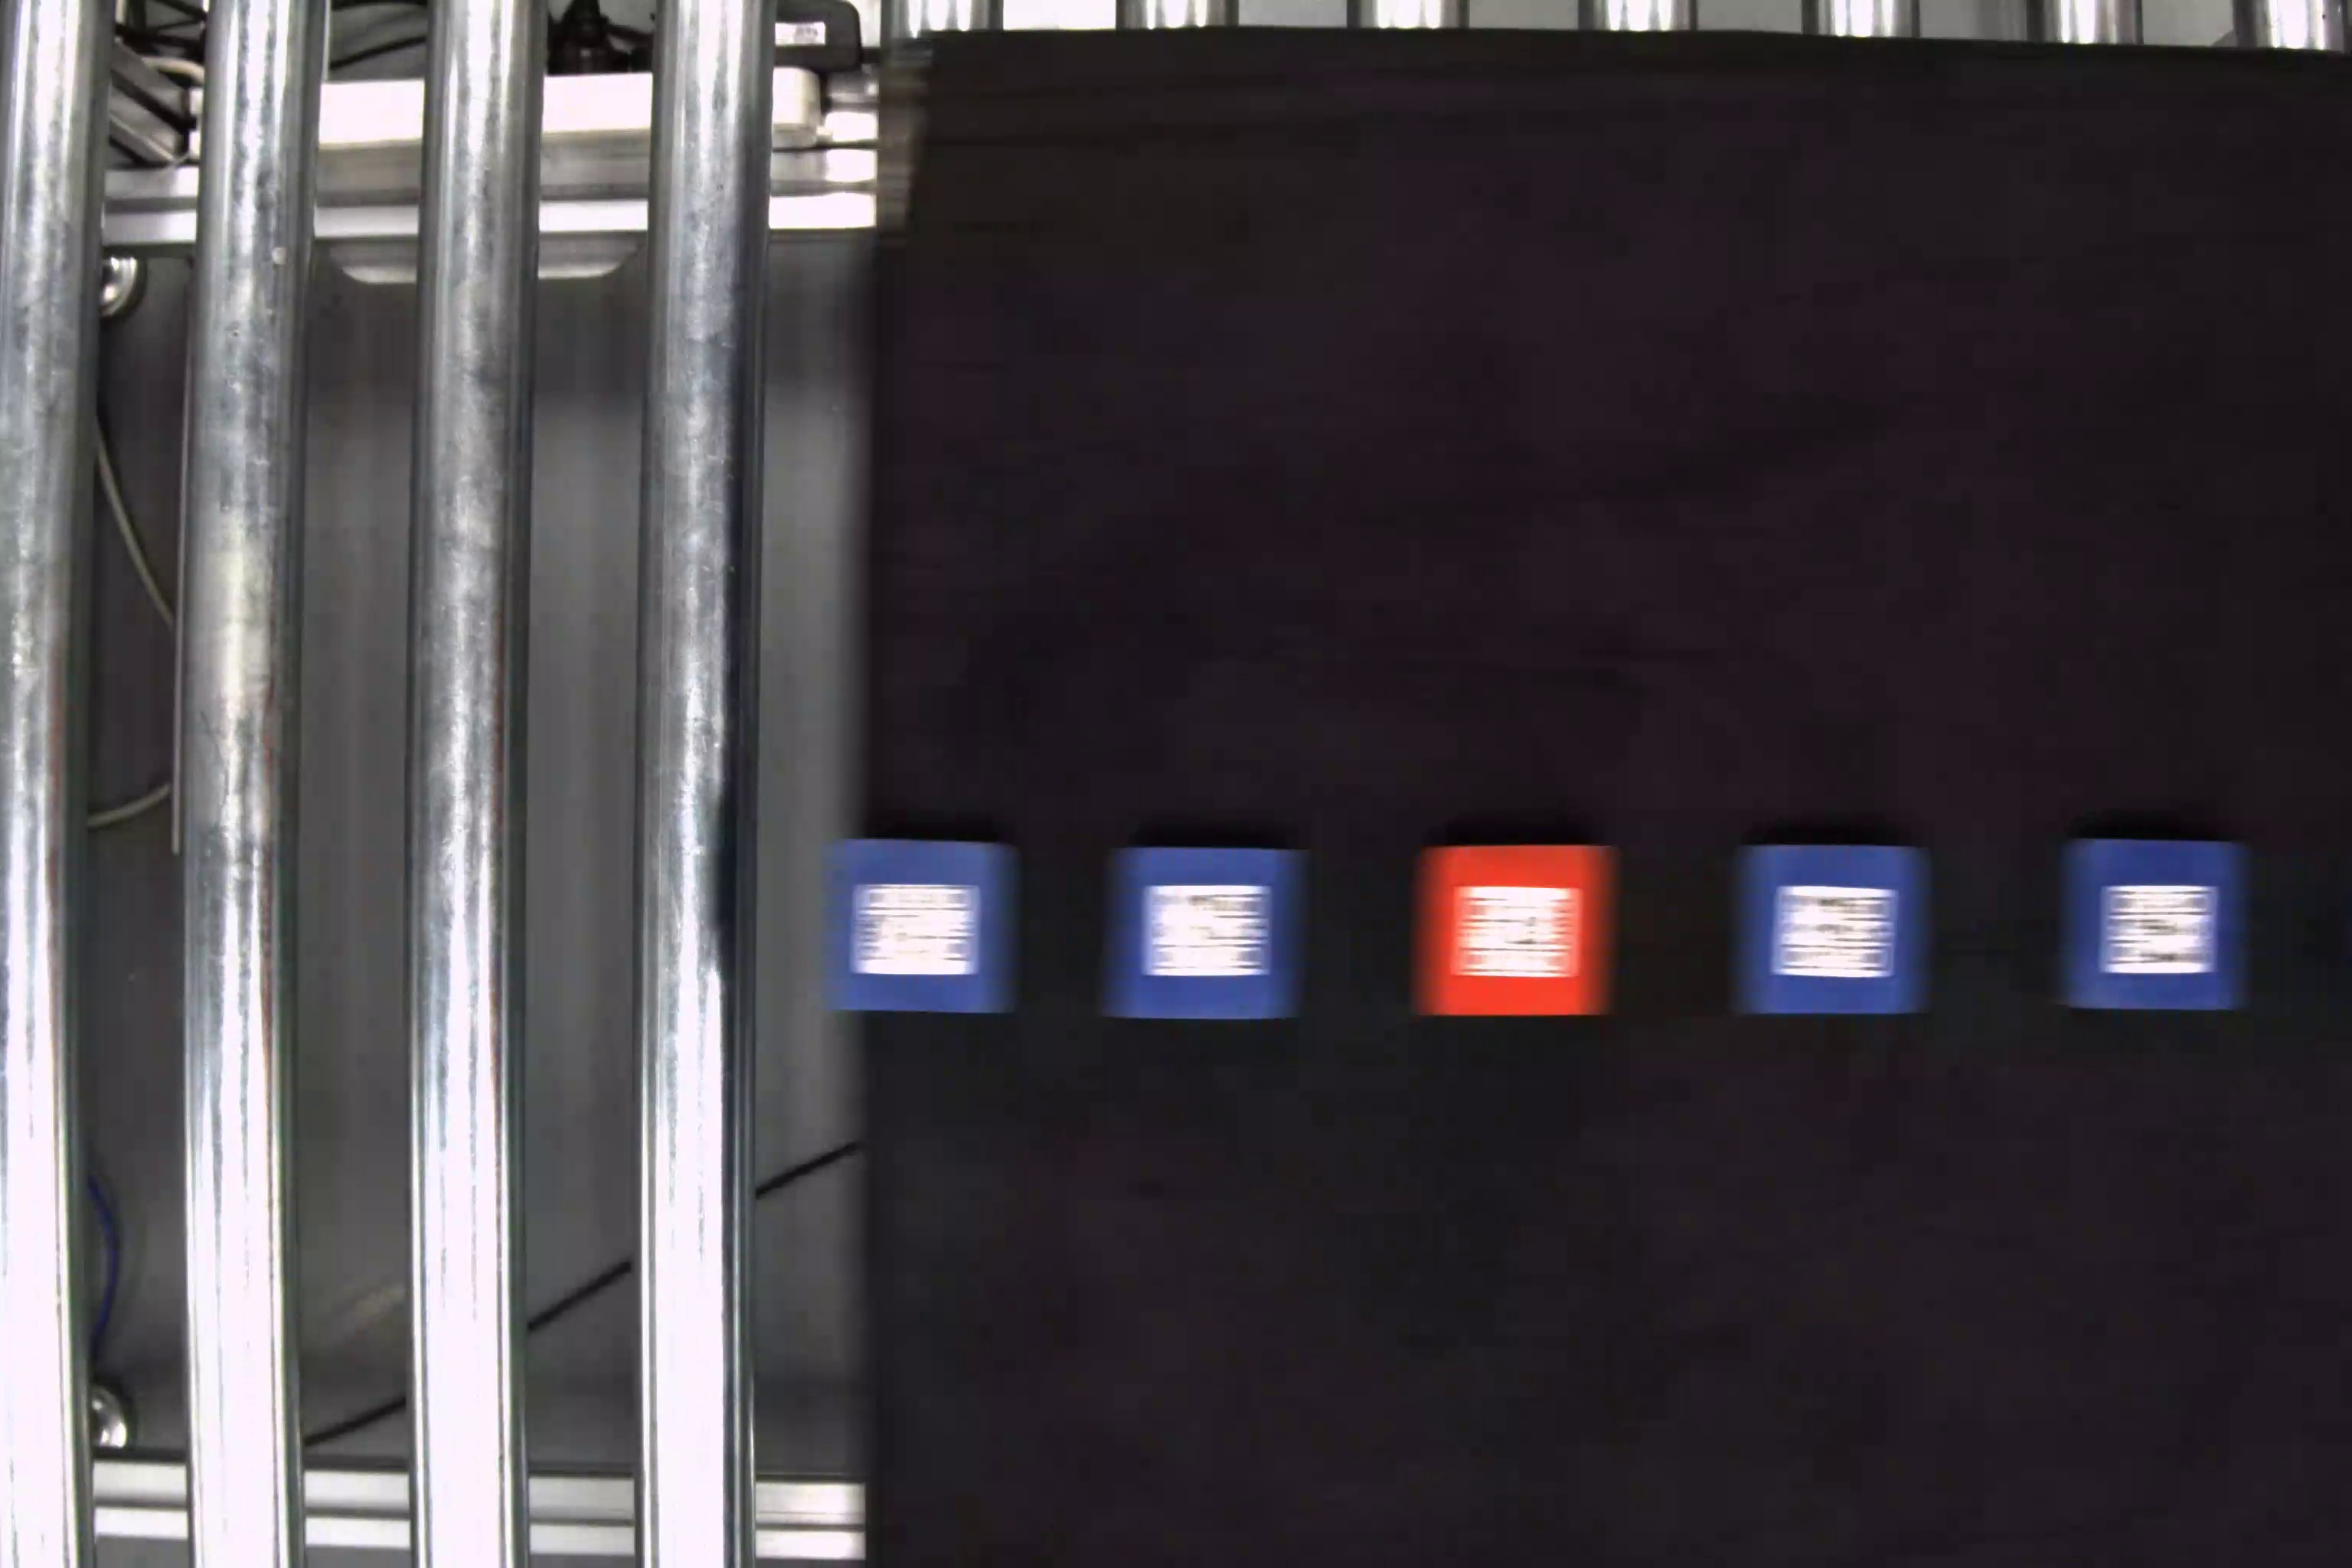wood: (1097, 845, 1312, 1022), (821, 831, 1022, 1013), (2058, 835, 2259, 1017), (1412, 842, 1622, 1015), (1729, 843, 1934, 1017)
